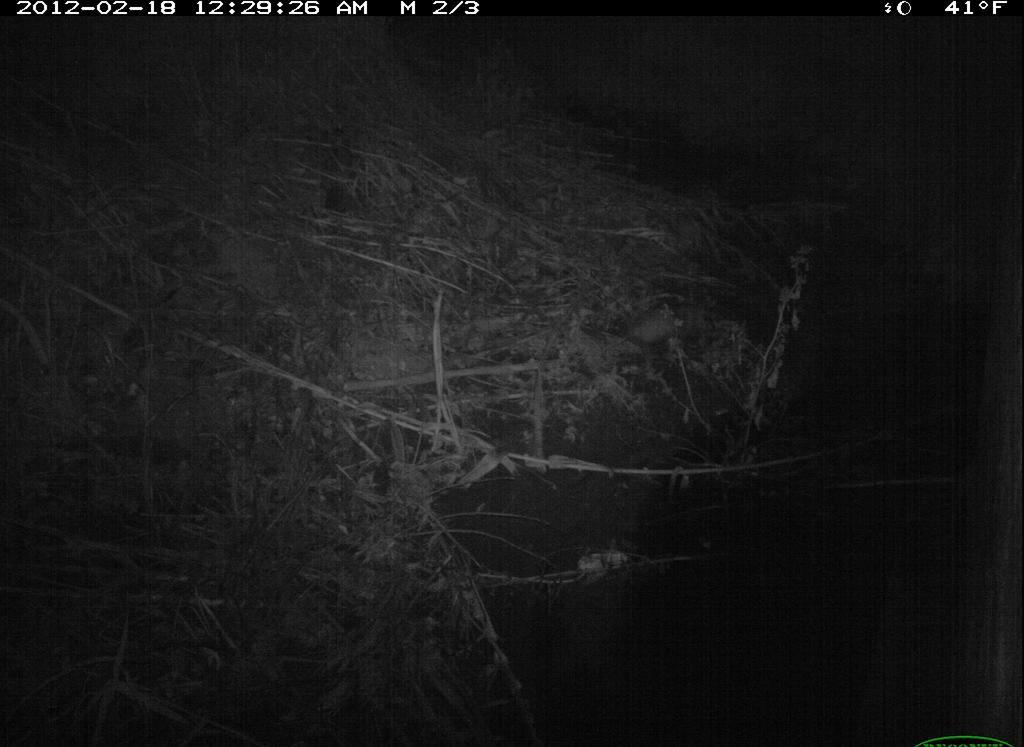opossum: (596, 298, 719, 373)
